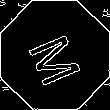M_NE: (23, 24, 87, 86)
